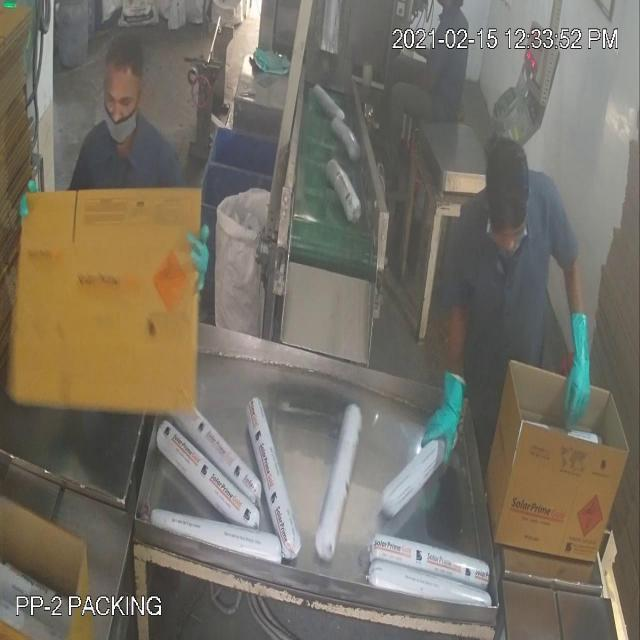Gloves: (37, 110, 576, 410)
